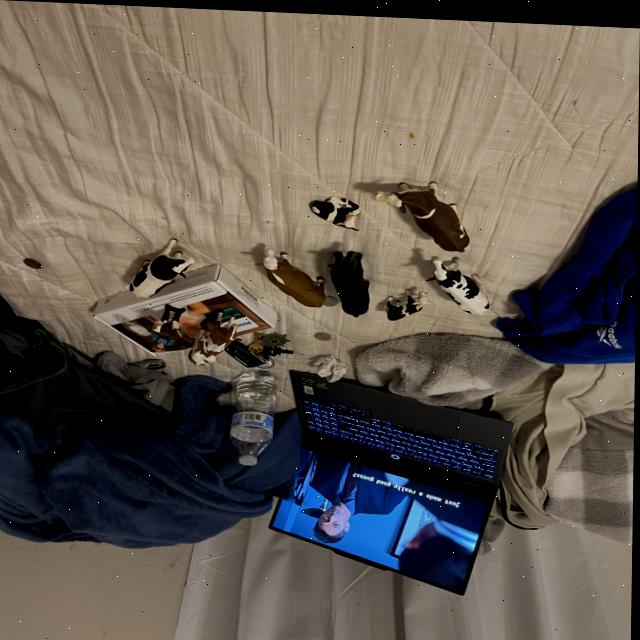cow: (372, 155, 487, 255), (421, 241, 501, 318), (254, 241, 336, 312), (122, 233, 198, 306), (326, 242, 378, 318), (182, 309, 243, 371), (307, 188, 365, 228), (381, 280, 433, 320), (152, 316, 184, 344)
person: (145, 330, 180, 359)
